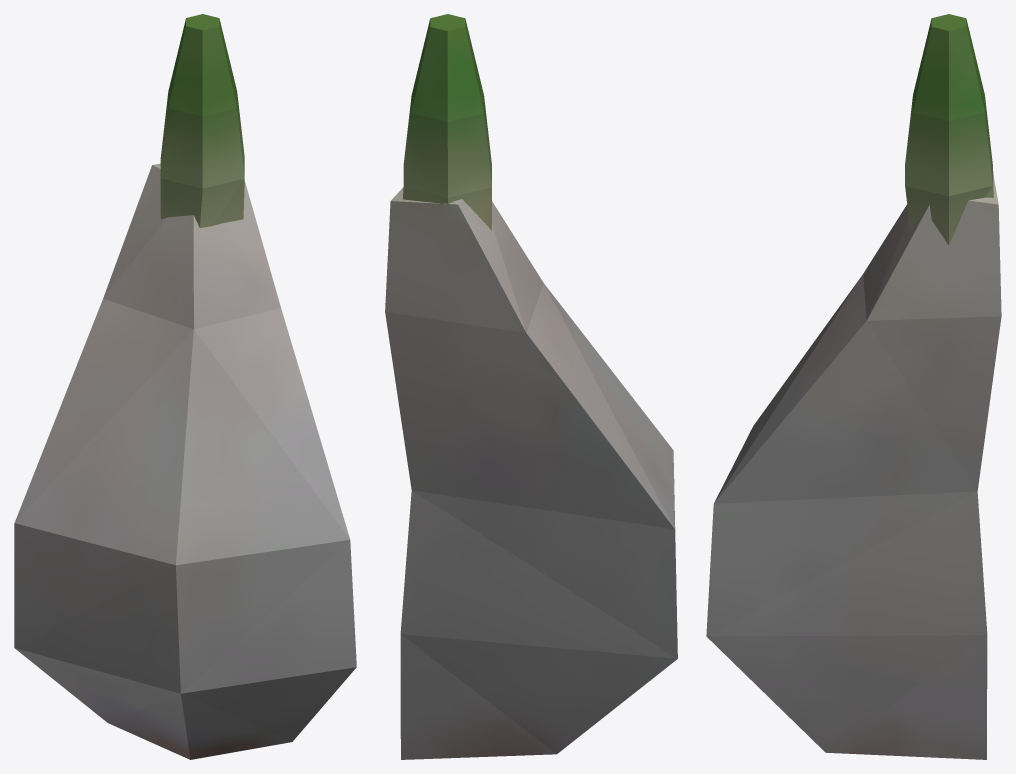
File: GarlicSeed_01.obj
3 views of the same model, side by side, from view 1: azimuth 30°, elevation 25°; view 2: azimuth 150°, elevation 25°; view 3: azimuth 270°, elevation 25° (orthographic). The views are drawn at different scales.
Bounding box in the file's own units: 0.062 × 0.1673 × 0.0618.
1 material, 1 textured.
